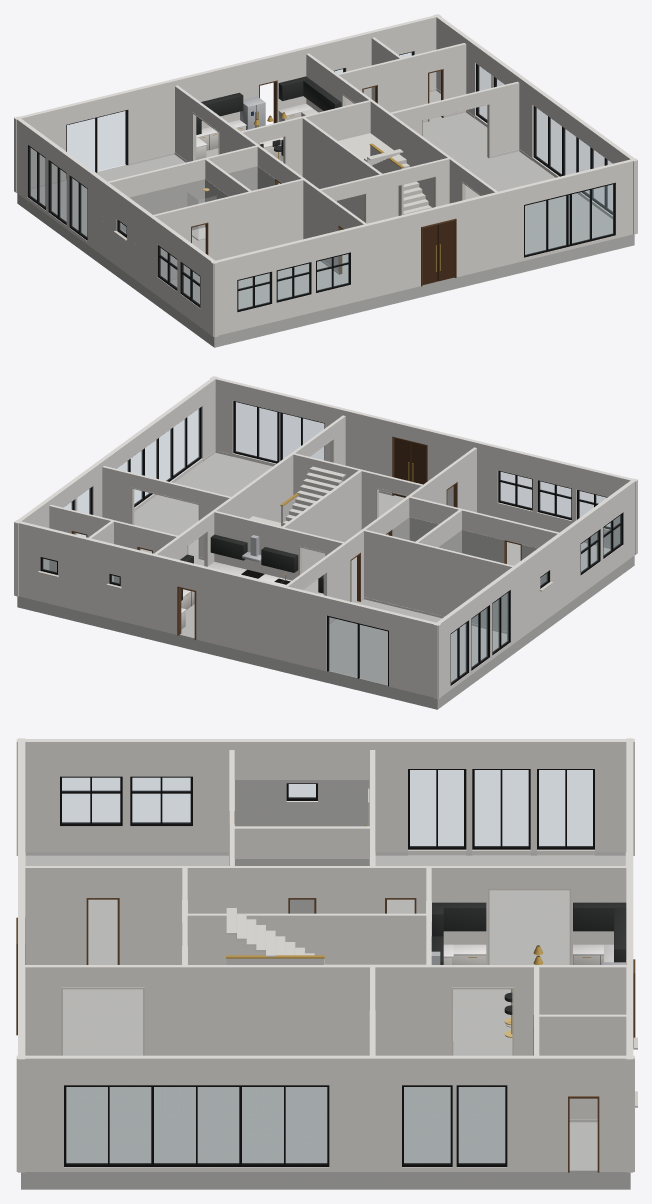
The model's file is int_est_S6_0.glb.
The picture shows the model from 3 angles, top to bottom: view 1: azimuth 30°, elevation 25°; view 2: azimuth 150°, elevation 25°; view 3: azimuth 270°, elevation 25°; orthographic projection. The views are drawn at different scales.
Visible parts, largest first — view 1: WALL_0, ROOM, WALL_10, WALL_13, WALL_5, WALL_12, WALL_1, WALL_2, WALL_9, WALL_4, WALL_6, WALL_8 (+4 smaller); view 2: WALL_10, ROOM, WALL_0, WALL_13, WALL_5, WALL_3, WALL_2, WALL_1, WALL_4, WALL_7, WALL_8, WALL_12 (+3 smaller); view 3: ROOM, WALL_5, WALL_13, WALL_2, WALL_1, WALL_8, WALL_4, WALL_14, WALL_11, WALL_10, WALL_0, WALL_12 (+1 smaller).
Boxes of the visible parts, x1,y1,x2,y2 form: WALL_0: (210, 158, 637, 336); ROOM: (17, 76, 634, 347); WALL_10: (14, 14, 441, 192); WALL_13: (14, 116, 218, 337); WALL_5: (433, 14, 637, 234); WALL_12: (127, 178, 303, 279); WALL_1: (175, 85, 366, 274); WALL_2: (277, 53, 497, 207); WALL_9: (336, 43, 466, 121); WALL_4: (389, 81, 533, 158); WALL_6: (318, 157, 450, 223); WALL_8: (302, 117, 382, 221); WALL_10: (14, 520, 441, 698); ROOM: (17, 450, 634, 709); WALL_0: (210, 376, 637, 554); WALL_13: (433, 478, 637, 699); WALL_5: (14, 376, 218, 596); WALL_3: (363, 529, 540, 631); WALL_2: (120, 415, 345, 600); WALL_1: (285, 447, 476, 621); WALL_4: (92, 466, 232, 558); WALL_7: (213, 510, 345, 580); WALL_8: (282, 470, 361, 572); WALL_12: (408, 496, 580, 581); ROOM: (21, 780, 630, 1189); WALL_5: (16, 1055, 634, 1172); WALL_13: (16, 739, 634, 855); WALL_2: (25, 965, 626, 1055); WALL_1: (25, 866, 626, 964); WALL_8: (187, 913, 426, 964); WALL_4: (329, 966, 401, 1167); WALL_14: (232, 826, 372, 858); WALL_11: (539, 1014, 626, 1118); WALL_10: (626, 738, 637, 1172); WALL_0: (16, 738, 25, 1172); WALL_12: (193, 750, 234, 866).
Bounding box in the file's own units: 22.02 × 4.2 × 17.97.
16 materials, 1 textured.
